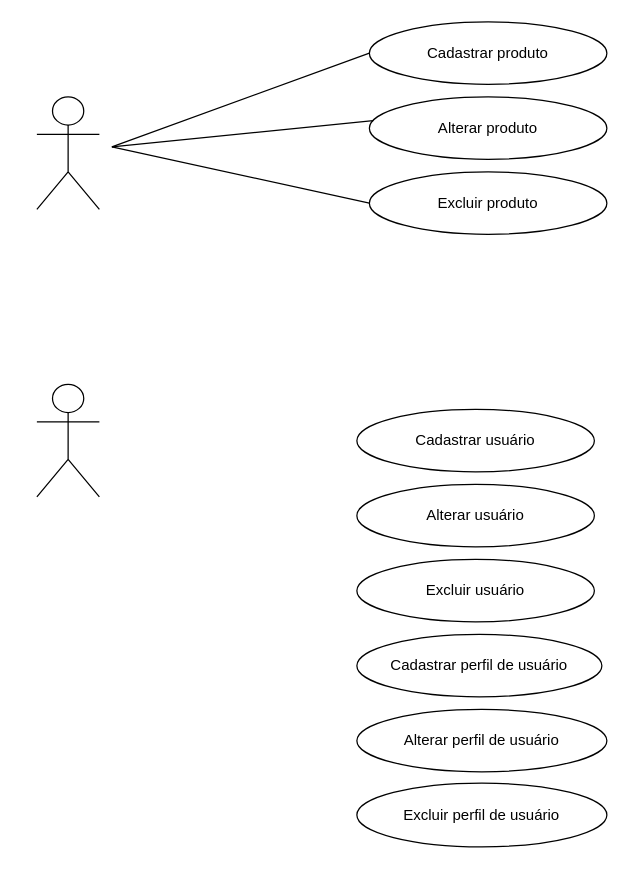
The diagram is 629 pixels wide and 869 high, and some of its shapes have lost their labels. The shapes that lost their labels are listed below. From the top down, each one's centre as x and y in pixels, then its label:
the point at 67,152: Operador
the point at 67,440: Administrador
